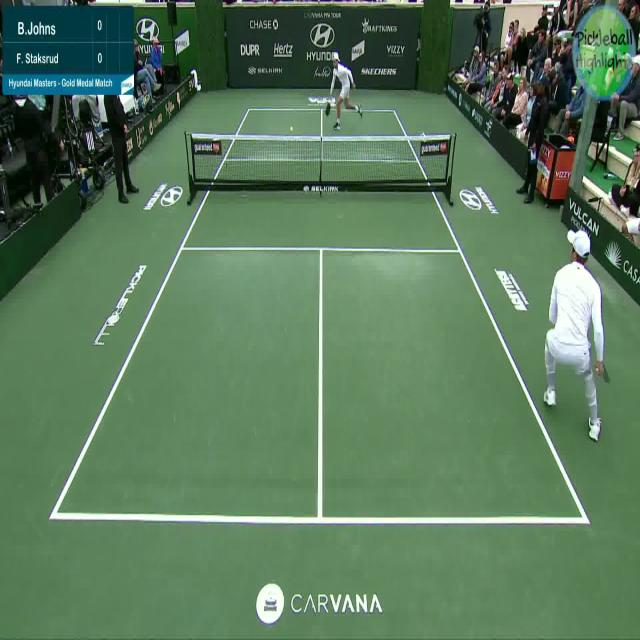Court: (54, 107, 587, 525)
ball: (289, 121, 296, 136)
